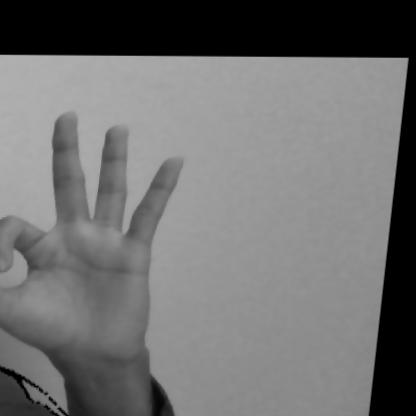ok: (0, 103, 220, 392)
